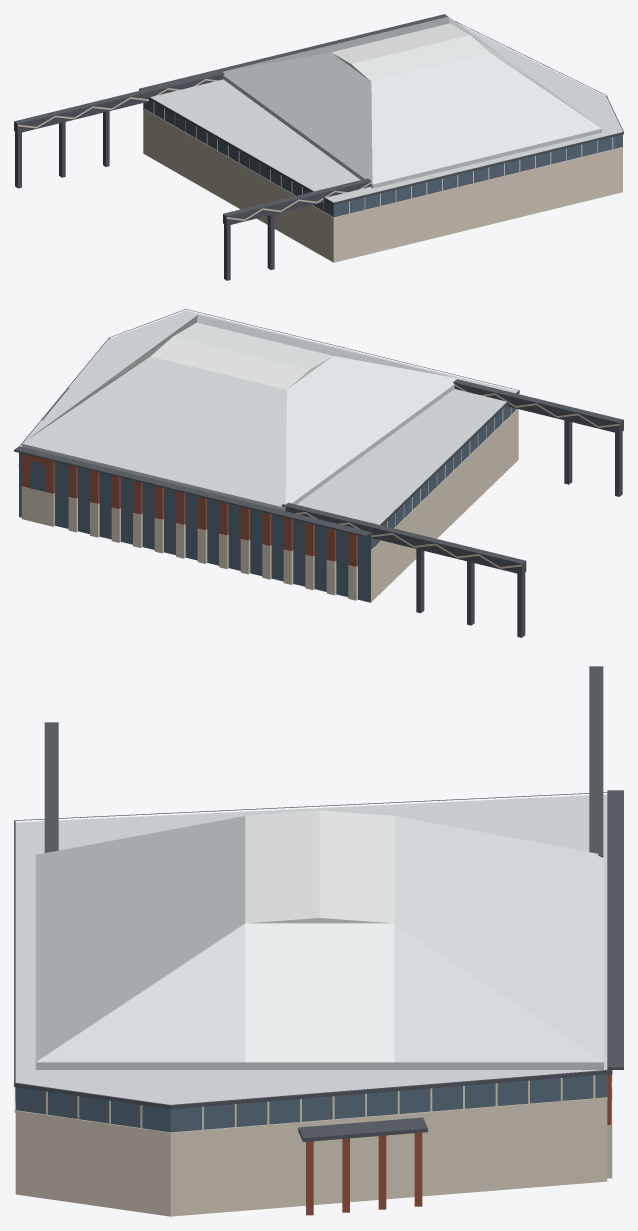
Rendered from dal-globe-life-field.glb.
The picture shows the model from 3 angles, top to bottom: view 1: azimuth 30°, elevation 25°; view 2: azimuth 150°, elevation 25°; view 3: azimuth 270°, elevation 25°; orthographic projection. The views are drawn at different scales.
Visible parts, largest first — view 1: Globe Life Field; view 2: Globe Life Field; view 3: Globe Life Field.
Part boxes in pixels (<box>): Globe Life Field: <box>14,14,623,280</box>; Globe Life Field: <box>14,309,623,637</box>; Globe Life Field: <box>14,666,623,1216</box>.
Size of the model in its own units: 369 by 84.7 by 221.
